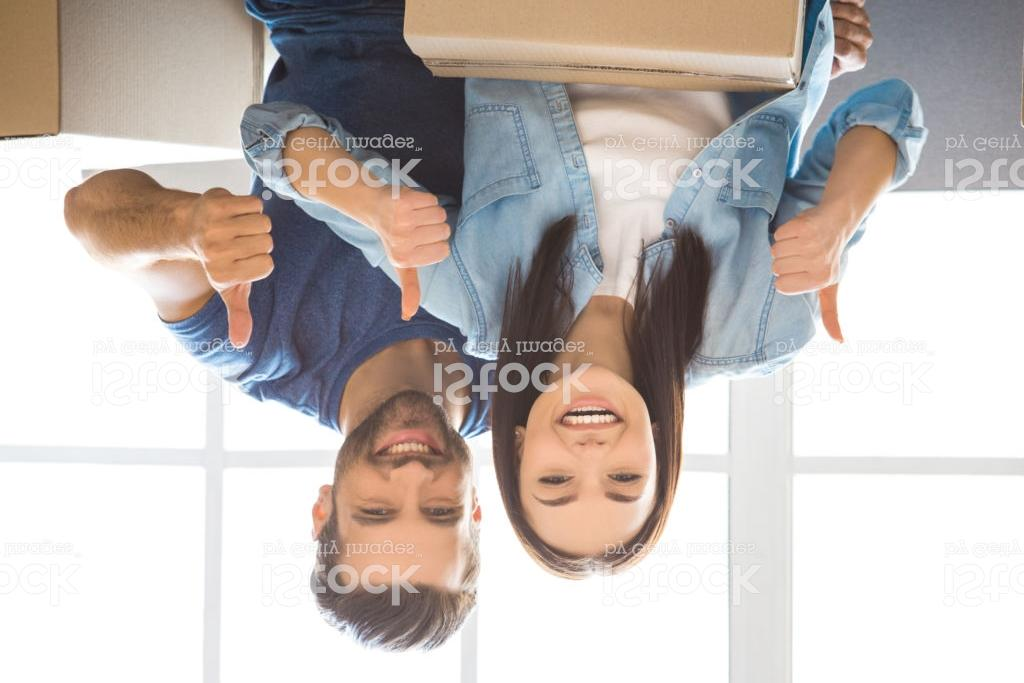thumbsdown: (196, 186, 276, 349), (768, 214, 846, 346), (381, 184, 454, 324)
